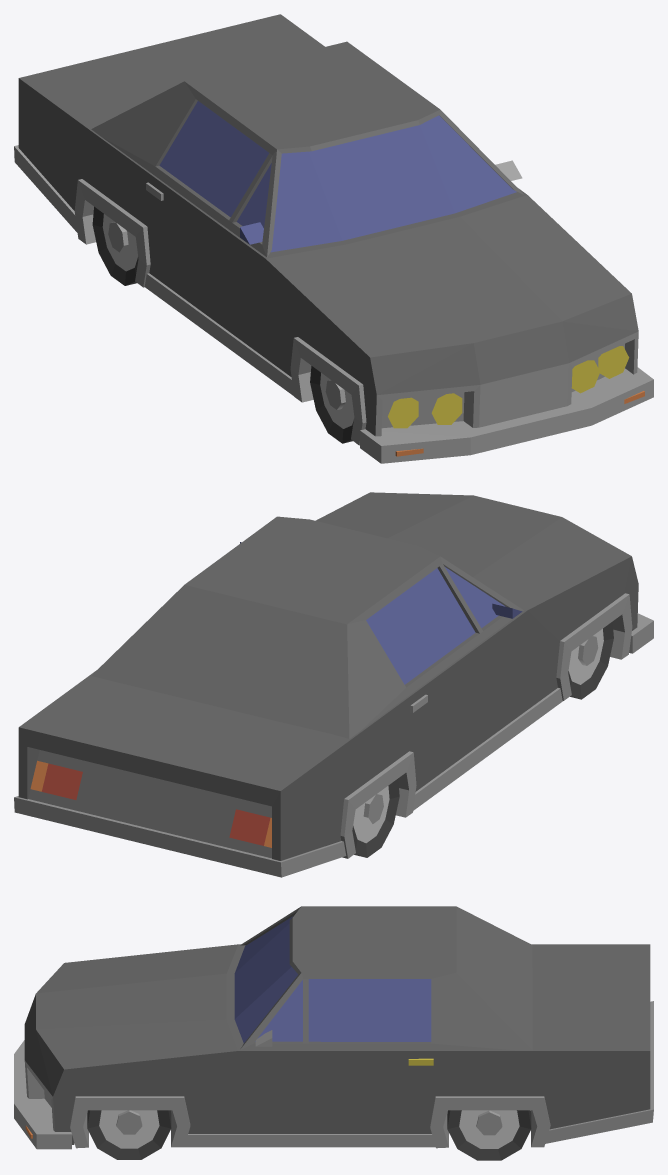
File: transport_cool_010.glb
3 renders of one model, top to bottom at view 1: azimuth 30°, elevation 25°; view 2: azimuth 150°, elevation 25°; view 3: azimuth 270°, elevation 25°, orthographic. The views are drawn at different scales.
Visible parts, largest first — view 1: transport_cool_010; view 2: transport_cool_010; view 3: transport_cool_010.
Part boxes in pixels (x1,y1,x2,y2): transport_cool_010: (14,14,653,463); transport_cool_010: (14,492,653,877); transport_cool_010: (14,906,653,1160).
Bounding box in the file's own units: 1.42 × 1.01 × 3.46.
Materials: 1 (1 with a texture image).
